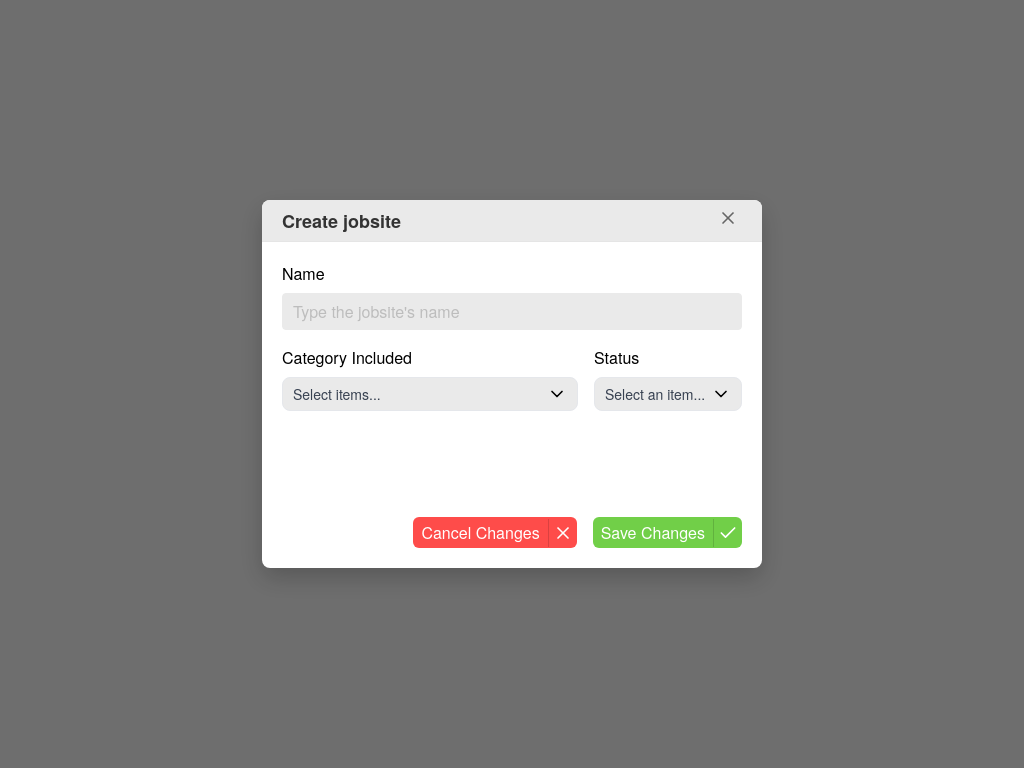
Test: CreateSiteModal › User interactions › selects a status in RadioDropdown
Click the text "Select an item...".
click(658, 394)  # box 605,384 -> 711,404
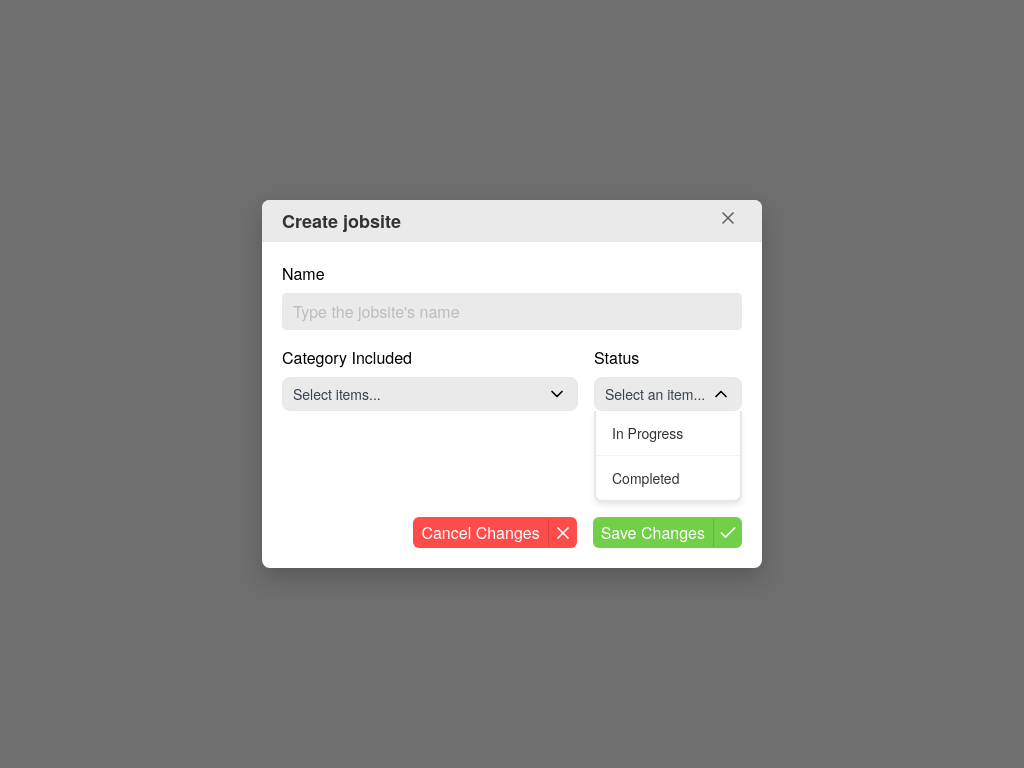
Click the text "In Progress".
click(668, 434)  # box 596,411 -> 740,456
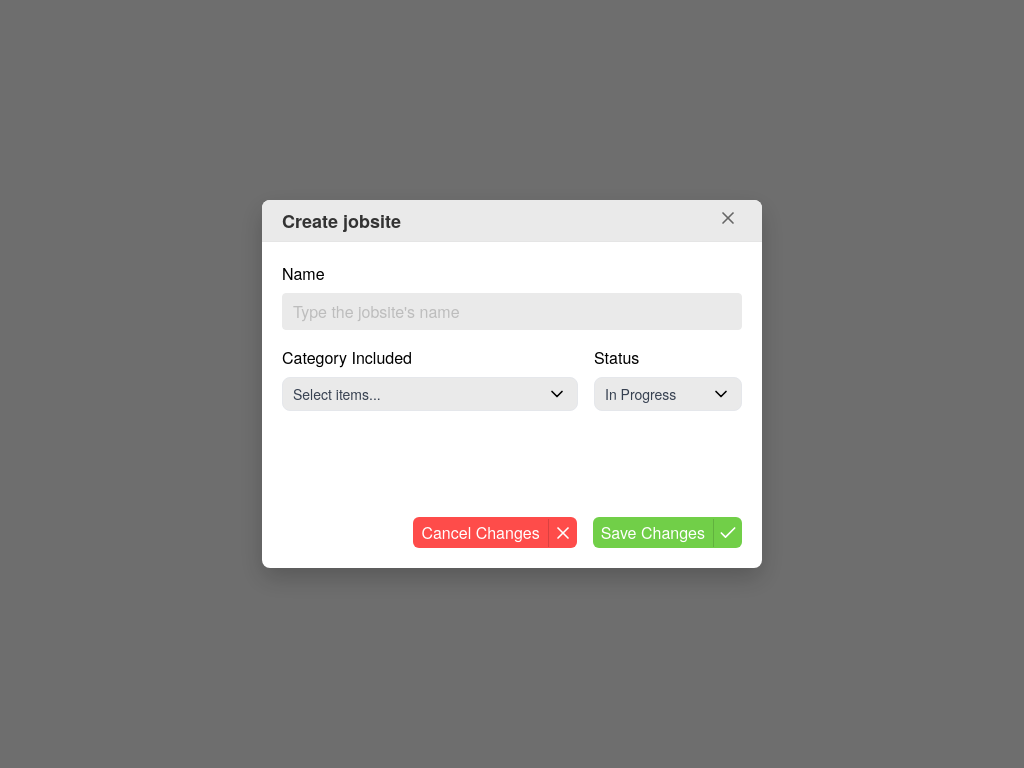
Result: the text "In Progress" is shown at 605,384 -> 676,404
